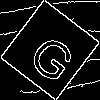G: (25, 25, 85, 86)
